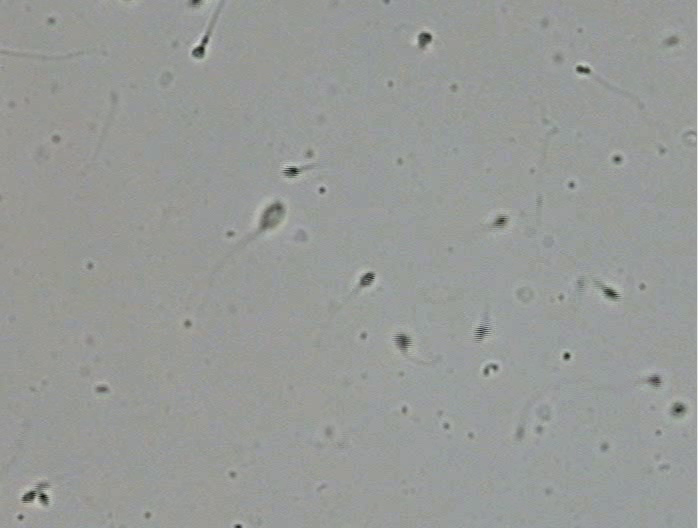S: (260, 202, 285, 230), (393, 332, 411, 352), (474, 323, 491, 341), (602, 286, 621, 301), (282, 166, 301, 178), (360, 272, 375, 287), (493, 214, 509, 228), (417, 32, 433, 46), (37, 491, 50, 507), (191, 46, 206, 59), (20, 490, 35, 503), (649, 374, 662, 388), (672, 404, 686, 416), (576, 65, 591, 74), (190, 1, 202, 8)
